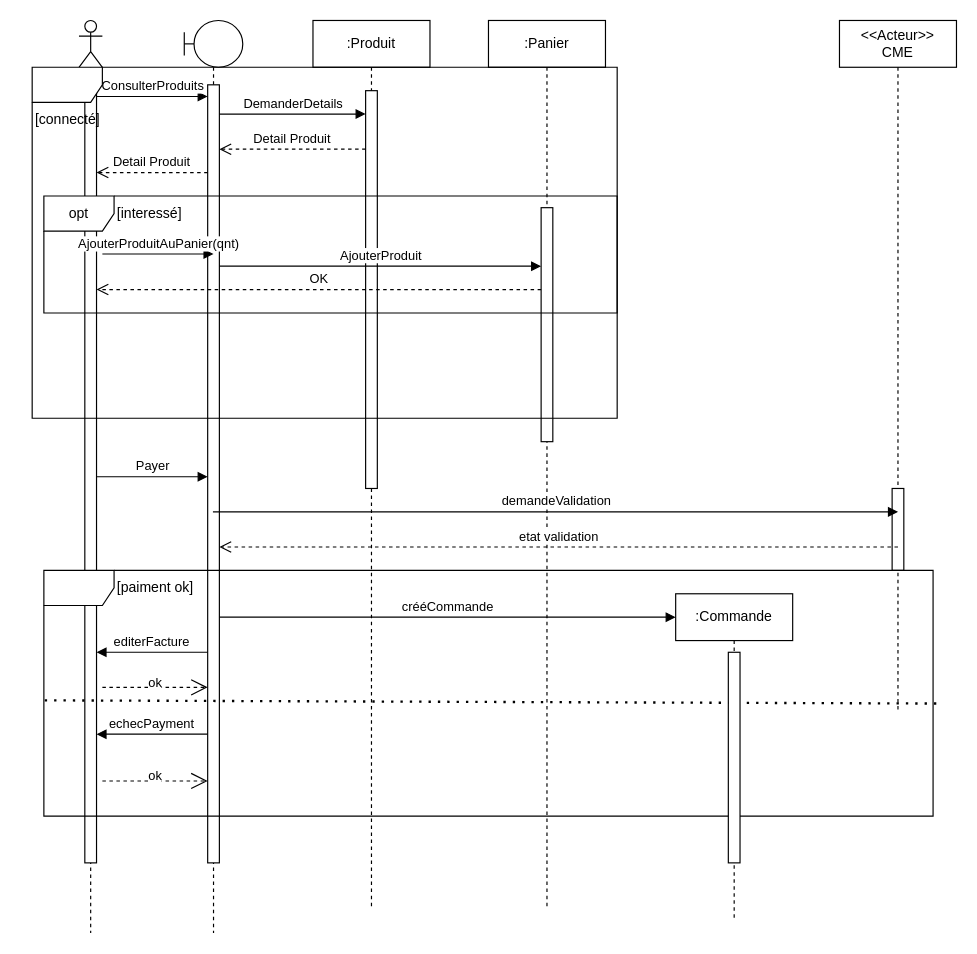
The diagram is 977 pixels wide and 954 high, and some of its shapes have lost their labels. The shapes that lost their labels are listed below. From the top down, each one's box as (x1, y1, x2, y2) in pixels, then its label:
(31, 66, 617, 418): loop
(183, 19, 243, 933): Site Web
(43, 569, 933, 816): alt
